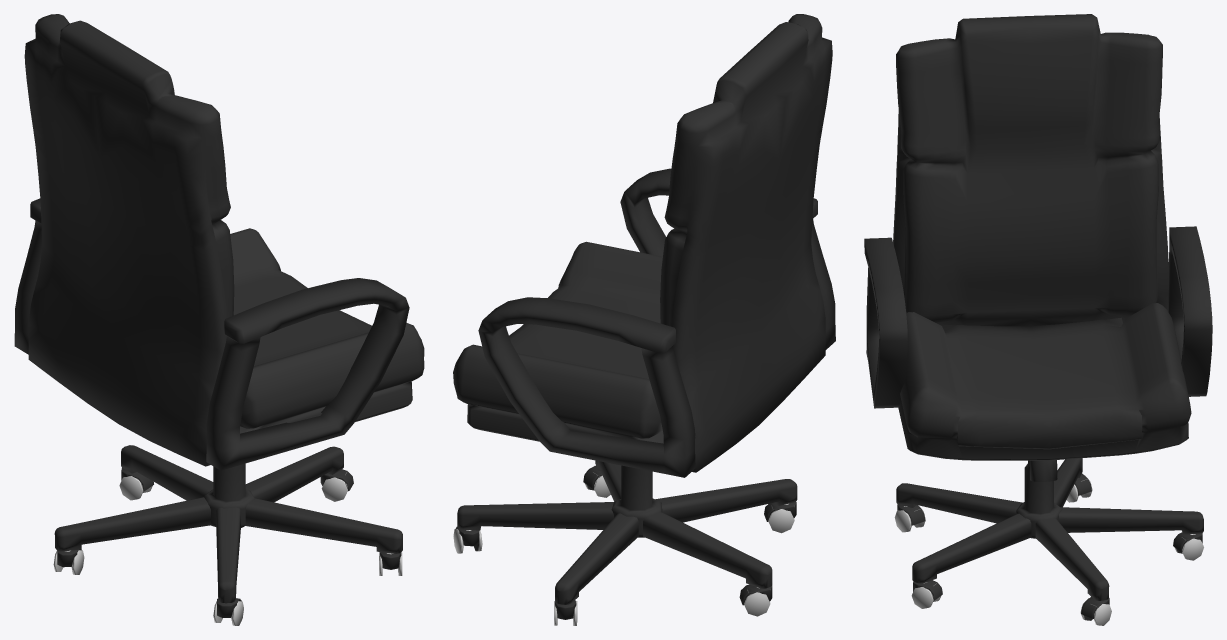
File: office_chair.glb
3 renders of one model, left to right at view 1: azimuth 30°, elevation 25°; view 2: azimuth 150°, elevation 25°; view 3: azimuth 270°, elevation 25°, orthographic. The views are drawn at different scales.
Visible parts, largest first — view 1: ChairBack_LP, ChairSeat_LP4, pCube37, Leg_LP1, Leg_LP3, Leg_LP5, Leg_LP4, Leg_LP2, pCube38, Underside_LP; view 2: ChairBack_LP, ChairSeat_LP4, pCube38, pCube37, Leg_LP5, Leg_LP3, Leg_LP2, Leg_LP4, Underside_LP, Leg_LP1; view 3: ChairBack_LP, ChairSeat_LP4, pCube37, pCube38, Leg_LP4, Leg_LP1, Leg_LP2, Leg_LP5, Underside_LP, Leg_LP3.
Part boxes in pixels (x1,y1,x2,y2): ChairBack_LP: [24, 14, 234, 466]; ChairSeat_LP4: [230, 228, 424, 433]; pCube37: [206, 278, 409, 470]; Leg_LP1: [245, 498, 402, 553]; Leg_LP3: [54, 497, 211, 551]; Leg_LP5: [245, 446, 343, 502]; Leg_LP4: [121, 445, 213, 500]; Leg_LP2: [216, 507, 240, 603]; pCube38: [14, 198, 42, 354]; Underside_LP: [204, 463, 254, 527]; ChairBack_LP: [660, 14, 832, 472]; ChairSeat_LP4: [453, 241, 663, 443]; pCube38: [478, 297, 695, 477]; pCube37: [620, 168, 835, 349]; Leg_LP5: [457, 502, 613, 530]; Leg_LP3: [643, 512, 772, 588]; Leg_LP2: [655, 479, 797, 522]; Leg_LP4: [555, 513, 638, 604]; Underside_LP: [611, 465, 662, 537]; Leg_LP1: [595, 460, 621, 501]; ChairBack_LP: [893, 14, 1168, 326]; ChairSeat_LP4: [898, 303, 1191, 460]; pCube37: [864, 237, 907, 408]; pCube38: [1168, 226, 1212, 396]; Leg_LP4: [1059, 507, 1203, 534]; Leg_LP1: [912, 513, 1031, 583]; Leg_LP2: [896, 483, 1022, 523]; Leg_LP5: [1035, 518, 1109, 600]; Underside_LP: [1016, 460, 1062, 538]; Leg_LP3: [1054, 458, 1082, 507].
Size of the model in its own units: 0.694 by 1.16 by 0.748.
Materials: 1 (1 with a texture image).
